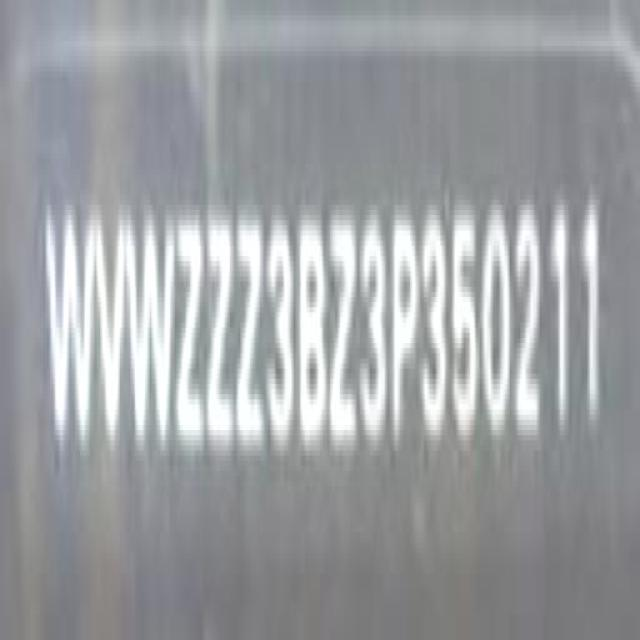0: (482, 198, 512, 448)
1: (550, 193, 574, 448), (580, 190, 604, 443)
2: (514, 196, 544, 447)
3: (421, 199, 449, 452), (267, 212, 296, 455), (361, 212, 389, 454)
5: (453, 200, 481, 447)
B: (298, 222, 327, 464)
P: (393, 208, 418, 446)
V: (95, 214, 127, 444)
W: (44, 196, 96, 461), (125, 197, 175, 451)
Z: (176, 198, 206, 457), (327, 201, 357, 459), (206, 198, 235, 458), (236, 199, 264, 458)
